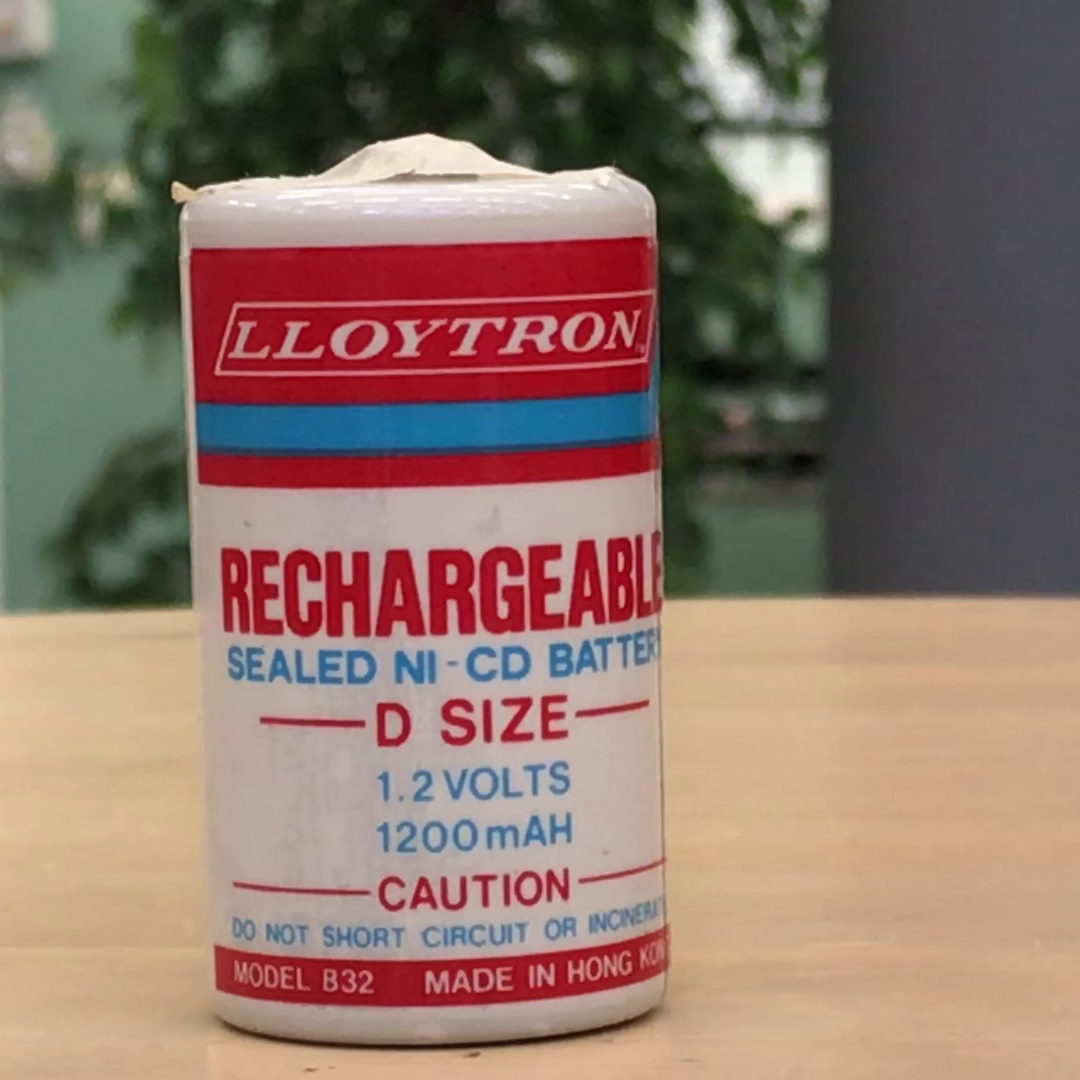keyword: (384, 636, 541, 694), (368, 759, 469, 811)
